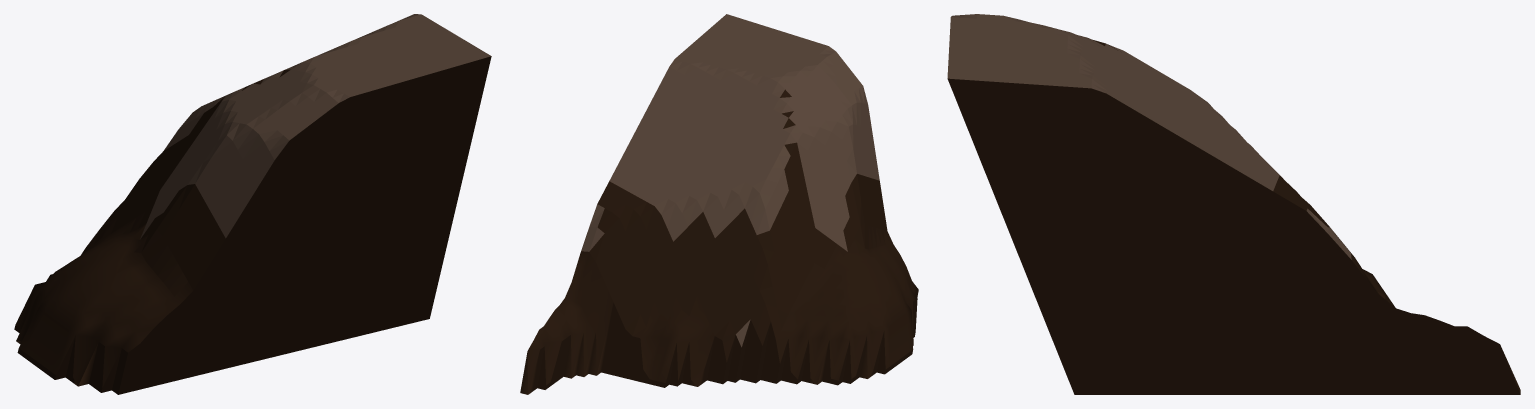
The model's file is ixm_cover_153.glb.
3 views of the same model, side by side, from view 1: azimuth 30°, elevation 25°; view 2: azimuth 150°, elevation 25°; view 3: azimuth 270°, elevation 25° (orthographic). The views are drawn at different scales.
Visible parts, largest first — view 1: ixm_cover_153; view 2: ixm_cover_153; view 3: ixm_cover_153.
Part boxes in pixels (bbox=[...]): ixm_cover_153: bbox=[14, 14, 491, 394]; ixm_cover_153: bbox=[520, 14, 918, 394]; ixm_cover_153: bbox=[947, 14, 1520, 394].
Bounding box in the file's own units: 16 × 13.7 × 22.48.
